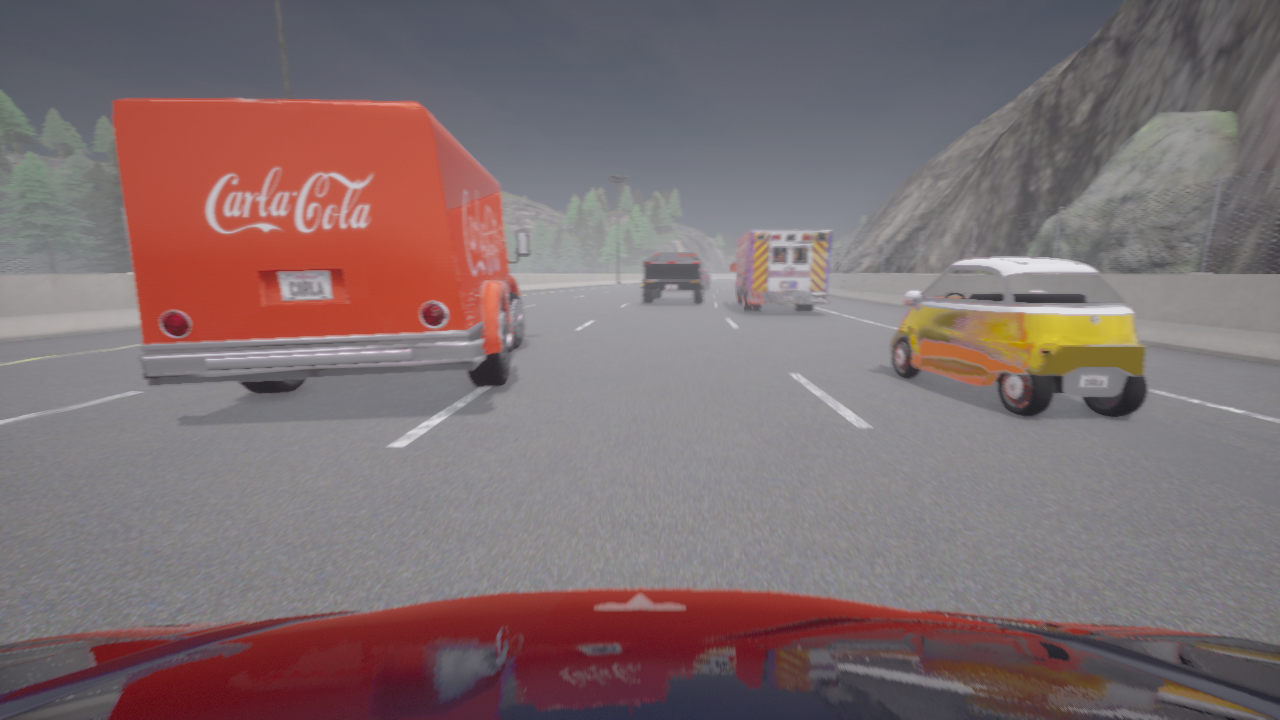cyclist: (0, 588, 1279, 719), (113, 98, 529, 393), (890, 257, 1147, 416), (730, 229, 831, 311), (641, 252, 704, 303), (700, 269, 709, 289), (705, 272, 709, 282)
